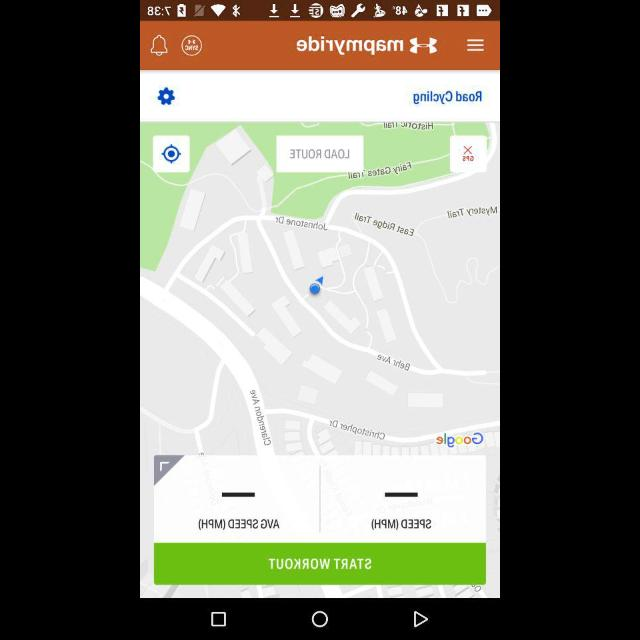icon: (180, 34, 203, 56), (160, 144, 182, 166), (148, 34, 168, 58), (155, 86, 177, 106), (308, 610, 329, 630), (466, 36, 486, 54), (384, 490, 418, 500), (220, 491, 258, 499), (414, 611, 428, 629), (211, 612, 227, 626)
map: (143, 122, 499, 454)
panel: (154, 456, 486, 584), (140, 598, 500, 638)
text: (294, 34, 444, 58), (411, 85, 485, 106), (270, 556, 370, 570), (195, 517, 282, 533), (369, 516, 433, 534)
textbutton: (154, 544, 483, 584)
toolbar: (142, 20, 500, 70)
uppertaskbar: (141, 2, 499, 20)
